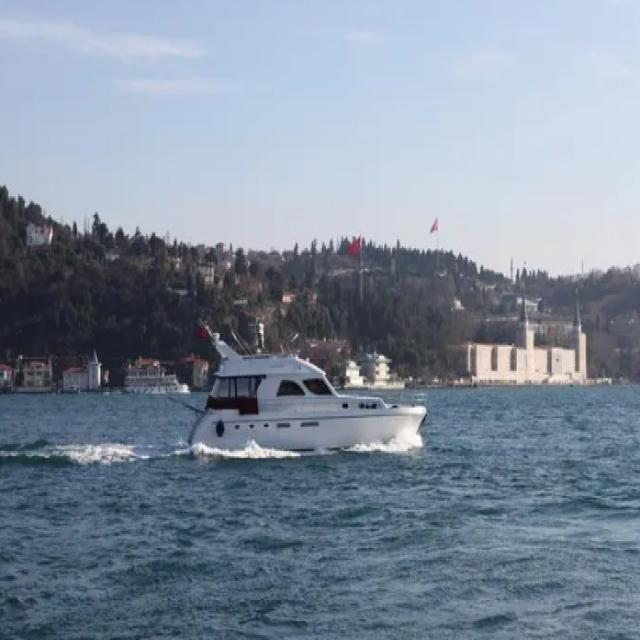houseboat: (190, 295, 438, 469)
